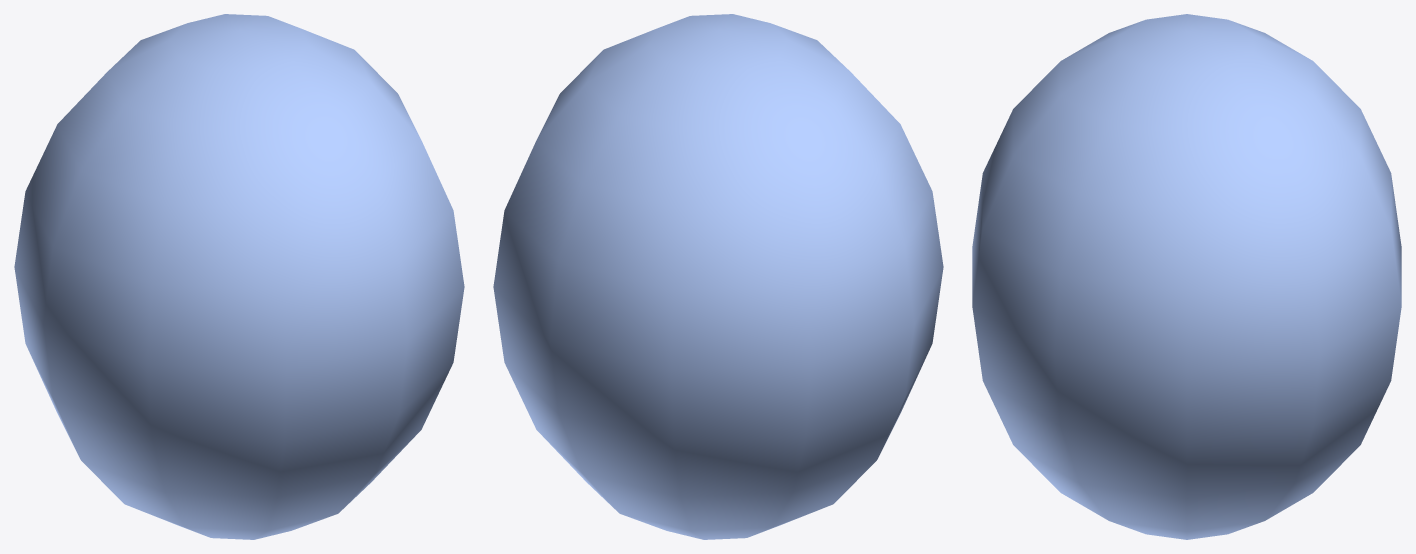
Rendered from Crystalis_stage1.obj.
3 views of the same model, side by side, from view 1: azimuth 30°, elevation 25°; view 2: azimuth 150°, elevation 25°; view 3: azimuth 270°, elevation 25° (orthographic).
Size of the model in its own units: 1.6 by 1.92 by 1.52.
